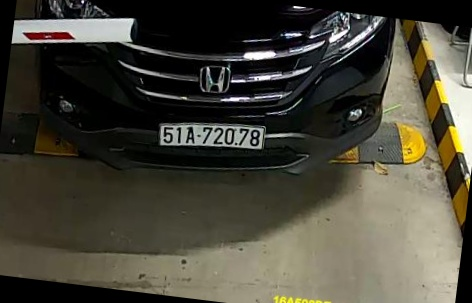plate: (154, 118, 270, 159)
